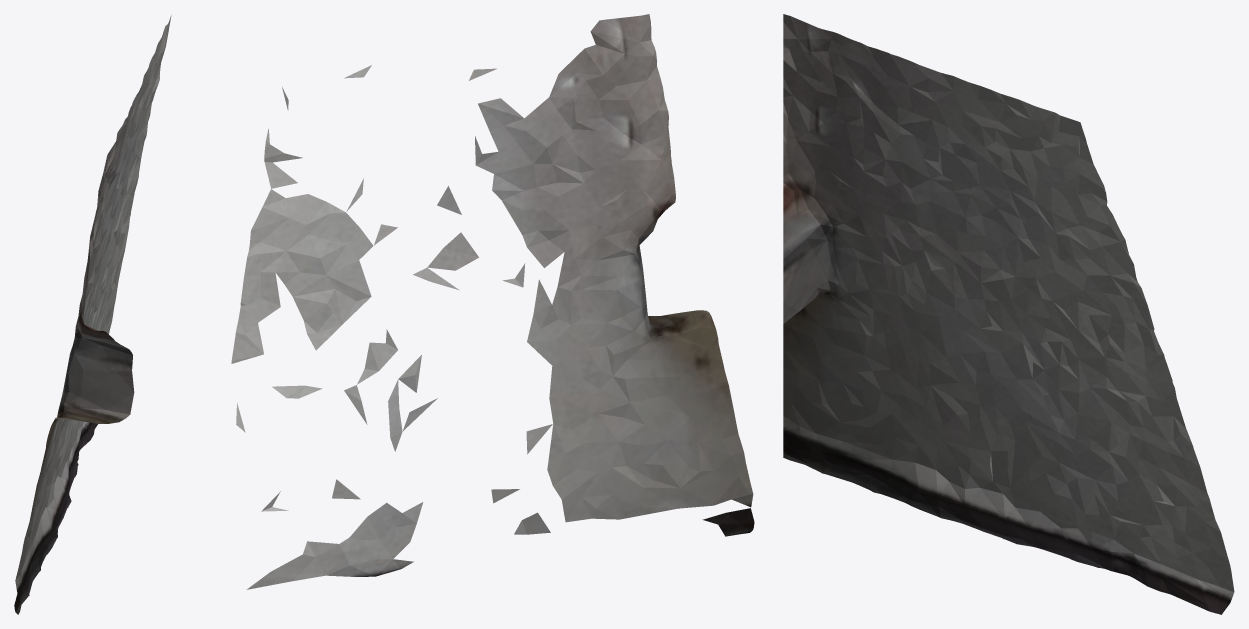
3 renders of one model, left to right at view 1: azimuth 30°, elevation 25°; view 2: azimuth 150°, elevation 25°; view 3: azimuth 270°, elevation 25°, orthographic. The views are drawn at different scales.
Bounding box in the file's own units: 0.5809 × 0.8373 × 0.6947.
Materials: 2 (2 with a texture image).
